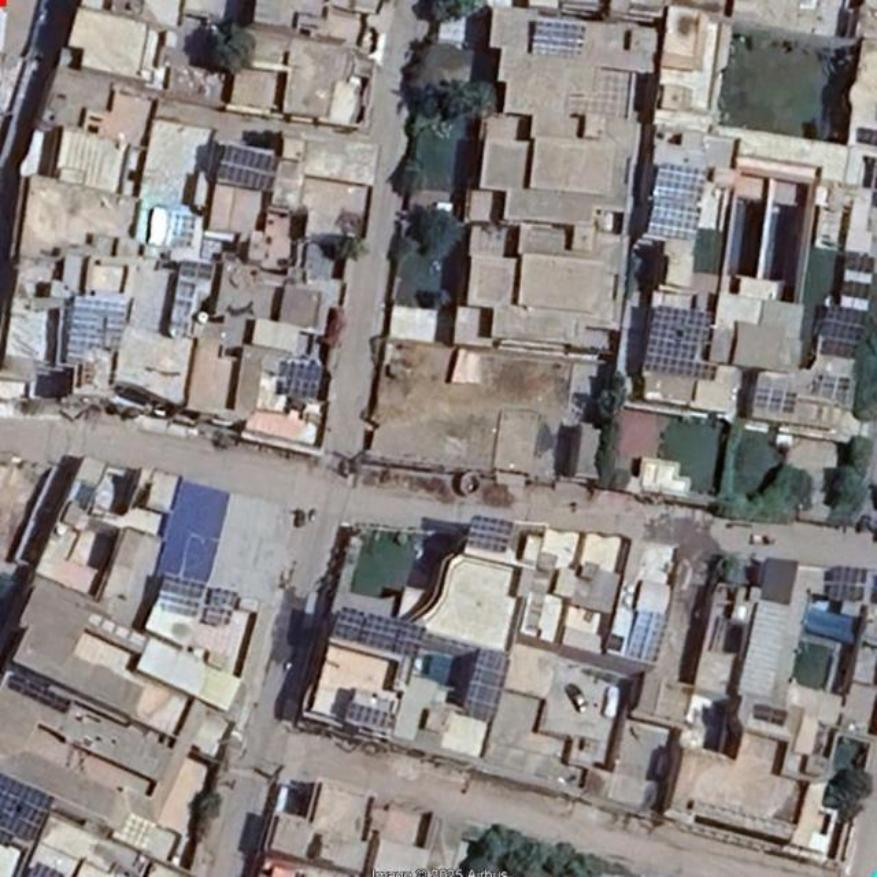Solarpanel: (644, 311, 722, 381), (332, 607, 425, 659), (66, 295, 132, 364), (0, 769, 59, 842), (651, 163, 707, 237), (461, 645, 509, 717), (216, 142, 282, 192), (820, 301, 868, 359), (628, 612, 668, 665), (532, 21, 583, 57), (162, 577, 206, 617), (467, 514, 511, 550), (824, 567, 867, 601), (286, 362, 322, 399), (346, 704, 395, 728), (202, 588, 233, 624), (172, 283, 197, 318), (180, 260, 212, 278), (28, 863, 71, 876)
